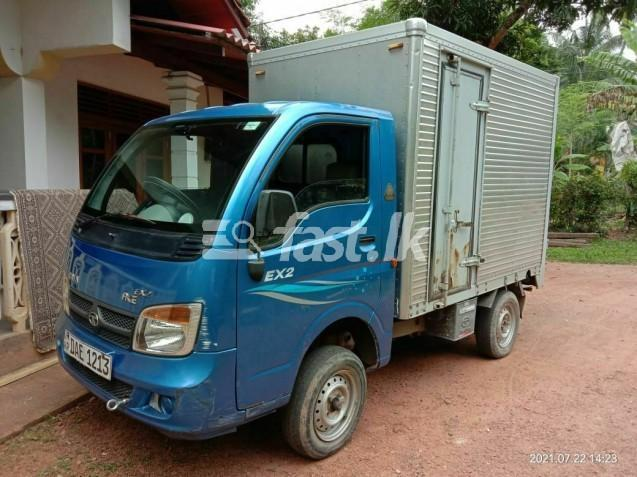truck: (54, 16, 560, 460)
